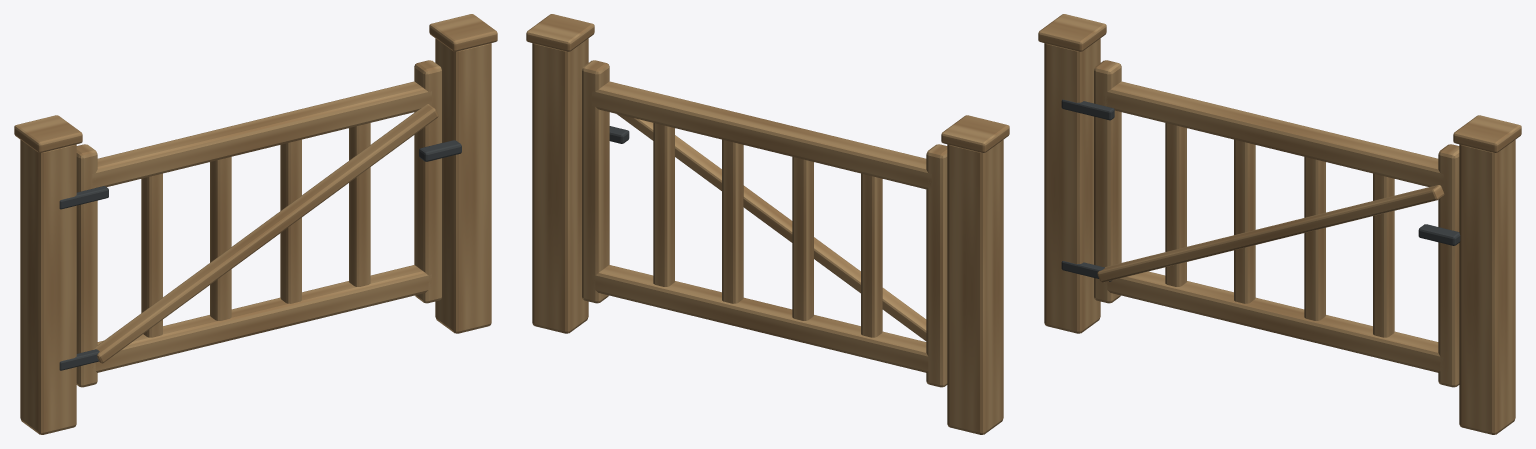
The model's file is fence_gate_2m.glb.
3 renders of one model, left to right at view 1: azimuth 30°, elevation 25°; view 2: azimuth 150°, elevation 25°; view 3: azimuth 330°, elevation 25°, orthographic.
Parts seen in each view (by area): view 1: post.009, post.010, gate_rail.001, gate_rail, gate_diagonal, gate_stile.001, gate_stile, gate_picket, gate_picket.003, gate_picket.001, gate_picket.002, post_cap.005 (+4 smaller); view 2: post.009, post.010, gate_rail.001, gate_rail, gate_stile.001, gate_stile, gate_diagonal, gate_picket.001, gate_picket.003, gate_picket, gate_picket.002, post_cap.005 (+1 smaller); view 3: post.010, post.009, gate_rail.001, gate_rail, gate_stile, gate_diagonal, gate_stile.001, gate_picket, gate_picket.002, gate_picket.003, gate_picket.001, post_cap.006 (+4 smaller).
Part boxes in pixels (bbox=[...]): post.009: bbox=[20, 140, 76, 434]; post.010: bbox=[435, 38, 491, 333]; gate_rail.001: bbox=[92, 81, 431, 188]; gate_rail: bbox=[92, 265, 431, 372]; gate_diagonal: bbox=[93, 104, 438, 363]; gate_stile.001: bbox=[414, 60, 441, 303]; gate_stile: bbox=[76, 144, 97, 387]; gate_picket: bbox=[141, 173, 162, 337]; gate_picket.003: bbox=[349, 123, 370, 286]; gate_picket.001: bbox=[210, 157, 231, 320]; gate_picket.002: bbox=[280, 139, 301, 303]; post_cap.005: bbox=[14, 115, 82, 152]; post.009: bbox=[947, 140, 1003, 434]; post.010: bbox=[532, 38, 588, 333]; gate_rail.001: bbox=[592, 81, 931, 189]; gate_rail: bbox=[592, 265, 928, 372]; gate_stile.001: bbox=[582, 60, 609, 303]; gate_stile: bbox=[926, 144, 947, 387]; gate_diagonal: bbox=[617, 114, 926, 340]; gate_picket.001: bbox=[792, 157, 813, 320]; gate_picket.003: bbox=[653, 123, 674, 286]; gate_picket: bbox=[861, 173, 882, 337]; gate_picket.002: bbox=[722, 139, 743, 303]; post_cap.005: bbox=[941, 115, 1009, 152]; post.010: bbox=[1459, 140, 1515, 434]; post.009: bbox=[1044, 38, 1100, 333]; gate_rail.001: bbox=[1104, 81, 1443, 188]; gate_rail: bbox=[1105, 271, 1443, 372]; gate_stile: bbox=[1094, 60, 1121, 303]; gate_diagonal: bbox=[1097, 185, 1444, 282]; gate_stile.001: bbox=[1438, 144, 1459, 387]; gate_picket: bbox=[1165, 123, 1186, 286]; gate_picket.002: bbox=[1304, 157, 1325, 320]; gate_picket.003: bbox=[1373, 173, 1394, 337]; gate_picket.001: bbox=[1234, 139, 1255, 303]; post_cap.006: bbox=[1453, 115, 1521, 152].
Bounding box in the file's own units: 1.95 × 1.2 × 0.2125.
Materials: 3 (2 with a texture image).
